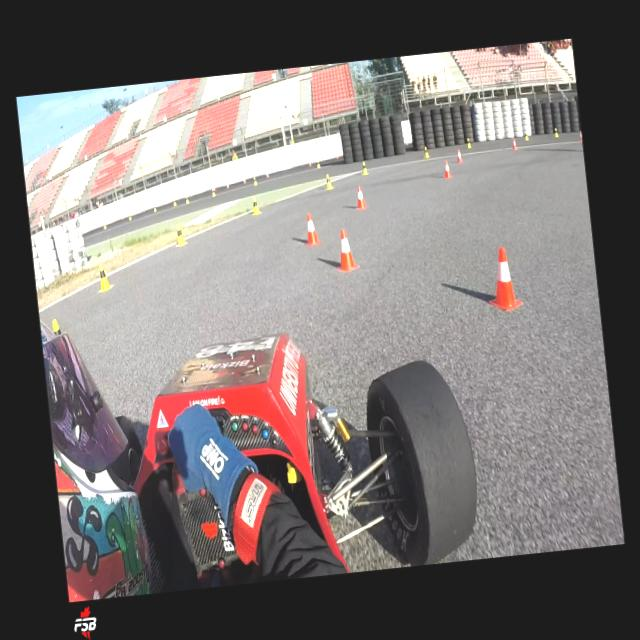orange_cone: (482, 244, 522, 312), (332, 226, 359, 272), (300, 212, 320, 247), (353, 184, 368, 210), (442, 159, 452, 178), (456, 148, 462, 162), (511, 137, 517, 149), (579, 128, 582, 141), (266, 169, 270, 178), (334, 151, 338, 160), (225, 180, 229, 188), (308, 158, 312, 166), (404, 136, 408, 144), (242, 175, 246, 182)
yellow_cone: (95, 262, 114, 292), (174, 222, 188, 247), (249, 196, 261, 216), (323, 172, 334, 190), (51, 317, 61, 336), (361, 160, 368, 176), (422, 146, 430, 158), (252, 174, 258, 186), (466, 137, 472, 148), (553, 127, 559, 138), (210, 186, 216, 197), (184, 194, 190, 204), (524, 130, 528, 140), (316, 160, 320, 169), (172, 198, 176, 206), (152, 204, 156, 212), (290, 136, 294, 144), (128, 212, 131, 220), (103, 221, 106, 229)
